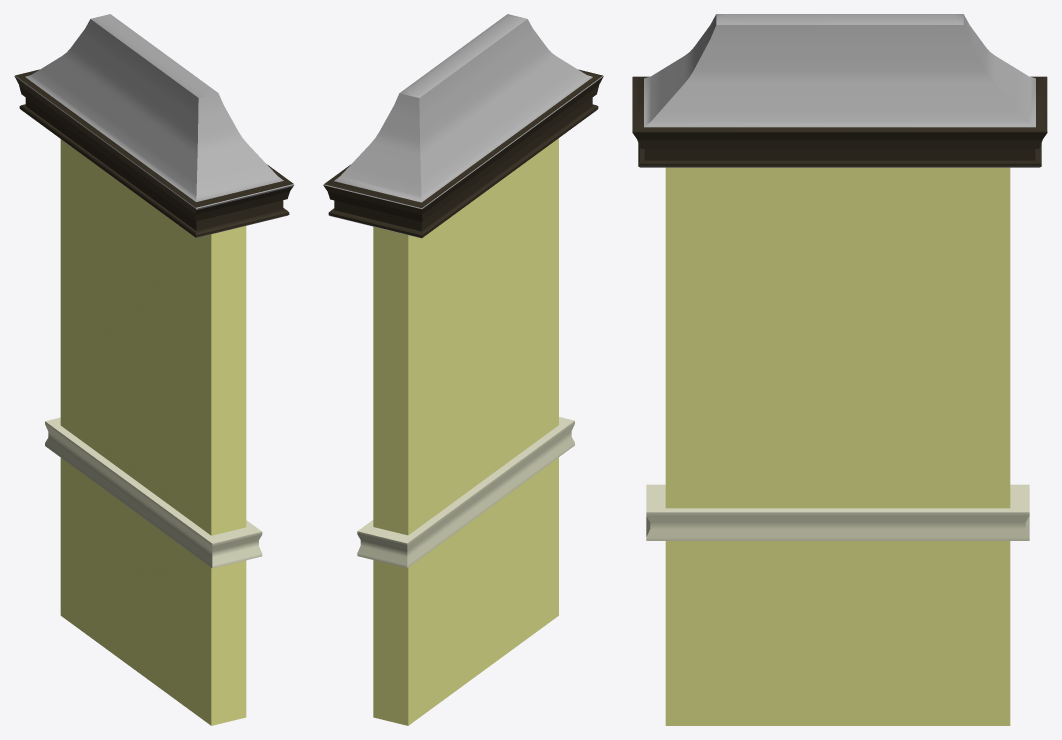
The model's file is wwr house 4.fbx.
3 views of the same model, side by side, from view 1: azimuth 30°, elevation 25°; view 2: azimuth 150°, elevation 25°; view 3: azimuth 270°, elevation 25° (orthographic). The views are drawn at different scales.
Visible parts, largest first — view 1: building3, roof2; view 2: building3, roof2; view 3: building3, roof2.
Part boxes in pixels (x1,y1,x2,y2): building3: (45,139,262,725); roof2: (14,14,294,237); building3: (357,138,574,725); roof2: (323,14,603,238); building3: (646,167,1029,725); roof2: (632,14,1047,167).
Bounding box in the file's own units: 10.34 × 61.19 × 32.94.
